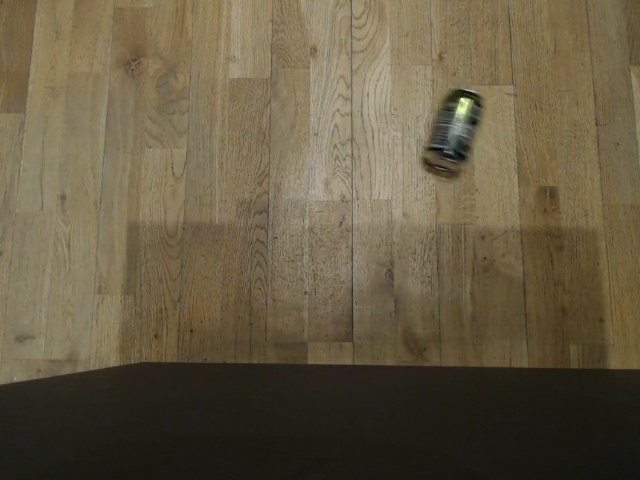beer: (421, 87, 483, 177)
